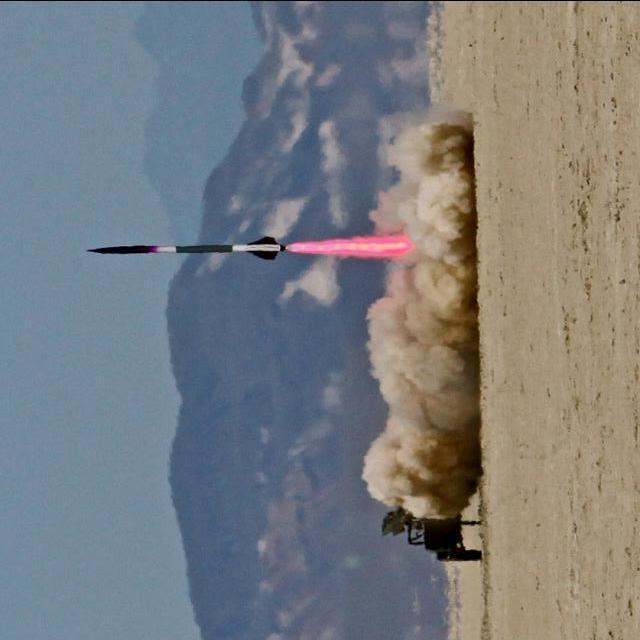missile: (85, 235, 290, 265)
